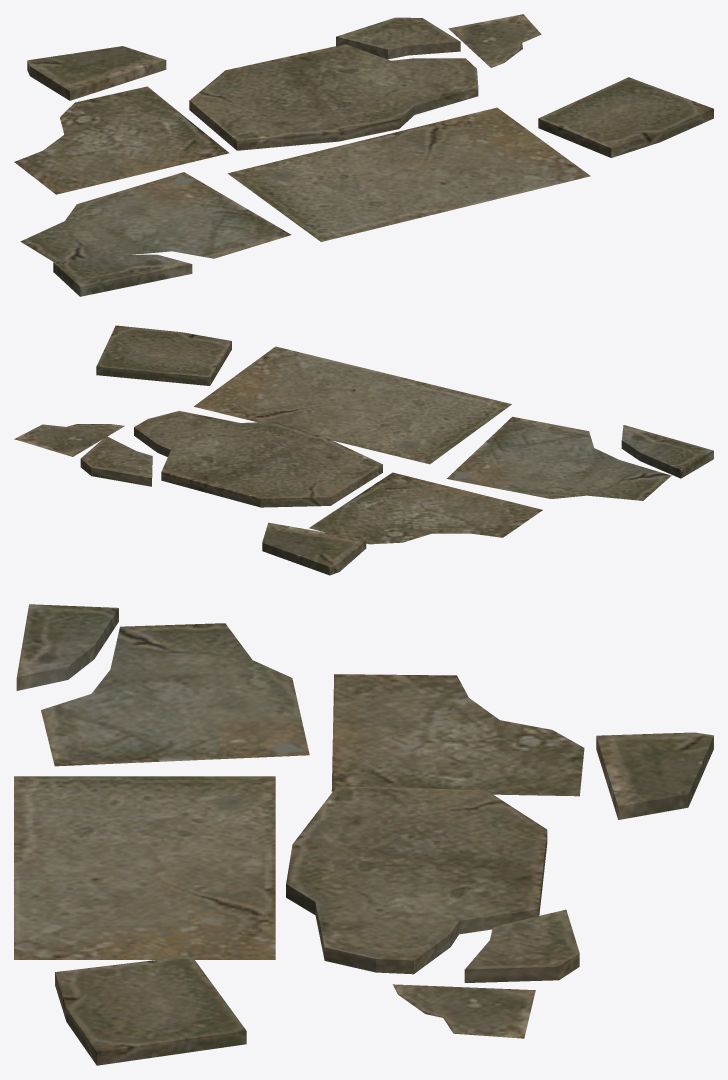
The model's file is bg_anh_gvalley_floore01_04_sm_old.FBX.
3 views of the same model, one above another, from view 1: azimuth 30°, elevation 25°; view 2: azimuth 150°, elevation 25°; view 3: azimuth 270°, elevation 25° (orthographic). The views are drawn at different scales.
Visible parts, largest first — view 1: bg_anh_gvalley_floore01_04_sm_old; view 2: bg_anh_gvalley_floore01_04_sm_old; view 3: bg_anh_gvalley_floore01_04_sm_old.
Part boxes in pixels (left/top/right/bottom): bg_anh_gvalley_floore01_04_sm_old: left=14, top=14, right=713, bottom=296; bg_anh_gvalley_floore01_04_sm_old: left=14, top=325, right=713, bottom=575; bg_anh_gvalley_floore01_04_sm_old: left=14, top=604, right=713, bottom=1065.
Size of the model in its own units: 237 by 3.35 by 157.
